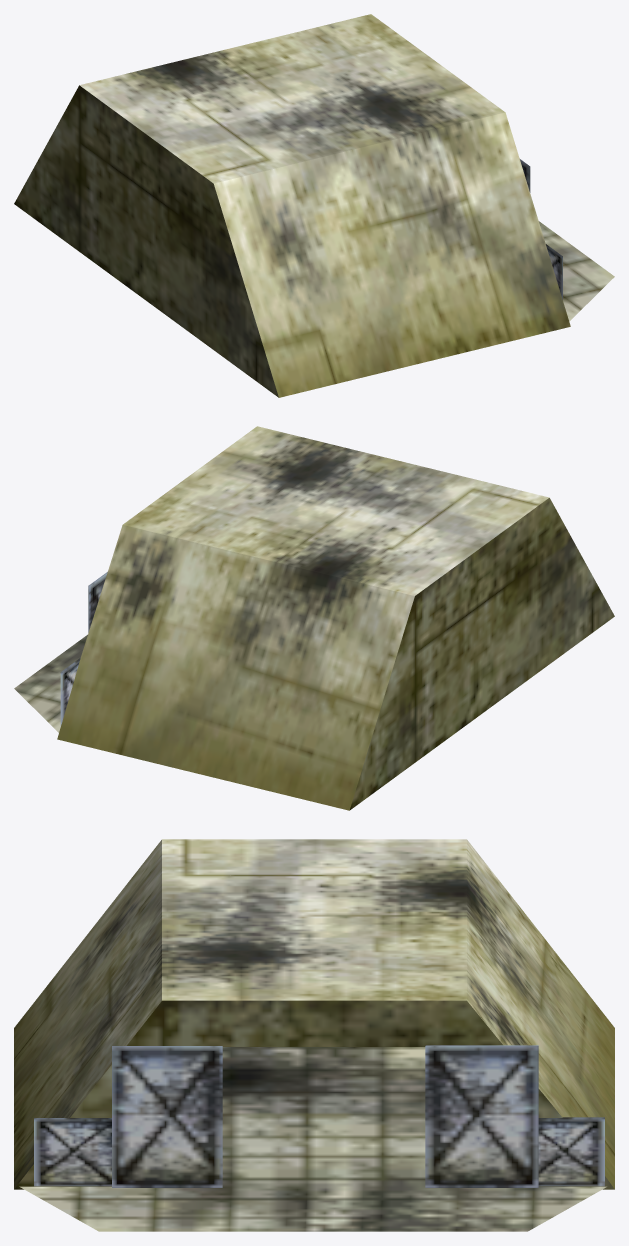
File: Civilian - Civilian Building - Stan Hanger 02 - Damaged and Night - CBTHanger2_dn.glb
3 renders of one model, top to bottom at view 1: azimuth 30°, elevation 25°; view 2: azimuth 150°, elevation 25°; view 3: azimuth 270°, elevation 25°, orthographic. The views are drawn at different scales.
Visible parts, largest first — view 1: CBTHANGER2_DN; view 2: CBTHANGER2_DN; view 3: CBTHANGER2_DN.
Part boxes in pixels (x1,y1,x2,y2): CBTHANGER2_DN: (14,14,614,397); CBTHANGER2_DN: (14,426,614,810); CBTHANGER2_DN: (14,839,614,1231).
Size of the model in its own units: 57.65 by 24.56 by 70.85.
Materials: 1 (1 with a texture image).
